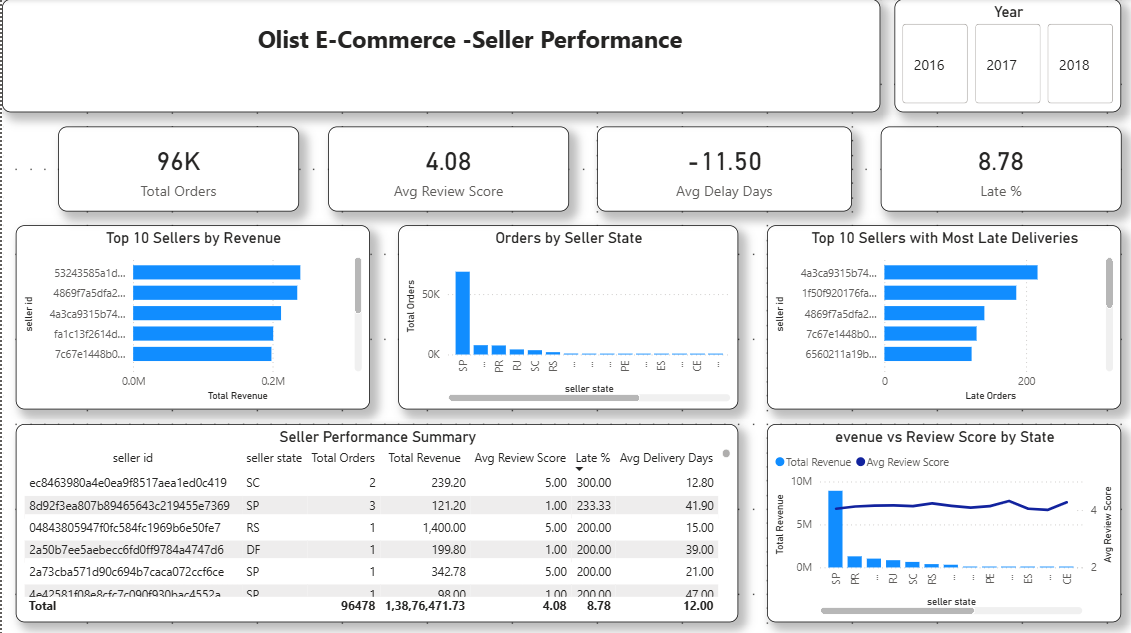

What the dashboard file says about the page in this screenshot:
{"tool":"powerbi","page":{"name":"Seller Performance","canvas":[1280,720],"ordinal":3},"visuals":[{"type":"clusteredBarChart","title":"Top 5 Sellers by Revenue","fields":{"Category":["DimSeller.seller_id"],"Y":["KPI.Total Revenue"]},"box":[16,256,592,208],"z":6000},{"type":"clusteredBarChart","title":"Top 5 Sellers with Most Late Deliveries","fields":{"Category":["DimSeller.seller_id"],"Y":["KPI.Late Orders"]},"box":[656,256,608,208],"z":8000},{"type":"lineClusteredColumnComboChart","title":"Revenue vs Review Score by State","fields":{"Category":["DimSeller.seller_state"],"Y":["KPI.Total Revenue"],"Y2":["KPI.Avg Review Score"]},"box":[864,480,400,224],"z":9000},{"type":"tableEx","title":"Seller Performance Summary","fields":{"Values":["DimSeller.seller_id","DimSeller.seller_state","KPI.Total Orders","KPI.Total Revenue","KPI.Avg Review Score","KPI.Late %","KPI.Avg Delivery Days"]},"box":[16,480,816,224],"z":10000},{"type":"card","fields":{"Values":["KPI.Total Orders"]},"box":[64,144,272,96],"z":10001},{"type":"card","fields":{"Values":["KPI.Avg Review Score"]},"box":[368,144,272,96],"z":10002},{"type":"card","fields":{"Values":["KPI.Avg Delivery Days"]},"box":[672,144,288,96],"z":10003},{"type":"card","fields":{"Values":["KPI.Late %"]},"box":[992,144,272,96],"z":10004},{"type":"textbox","box":[0,0,992,128],"z":10005},{"type":"advancedSlicerVisual","fields":{"Values":["DimDate.Year"]},"box":[1008,0,256,128],"z":10006}]}

Visuals, with their boxes in screenshot pixels (x1, y1, x2, y2), scaled from the page's 1280x720 canvas onto the 1131x633 screenshot:
"Top 5 Sellers by Revenue" clusteredBarChart: l=14, t=225, r=537, b=408
"Top 5 Sellers with Most Late Deliveries" clusteredBarChart: l=580, t=225, r=1117, b=408
"Revenue vs Review Score by State" lineClusteredColumnComboChart: l=763, t=422, r=1117, b=619
"Seller Performance Summary" tableEx: l=14, t=422, r=735, b=619
card - KPI.Total Orders: l=57, t=127, r=297, b=211
card - KPI.Avg Review Score: l=325, t=127, r=566, b=211
card - KPI.Avg Delivery Days: l=594, t=127, r=848, b=211
card - KPI.Late %: l=877, t=127, r=1117, b=211
textbox: l=0, t=0, r=877, b=113
advancedSlicerVisual - DimDate.Year: l=891, t=0, r=1117, b=113
